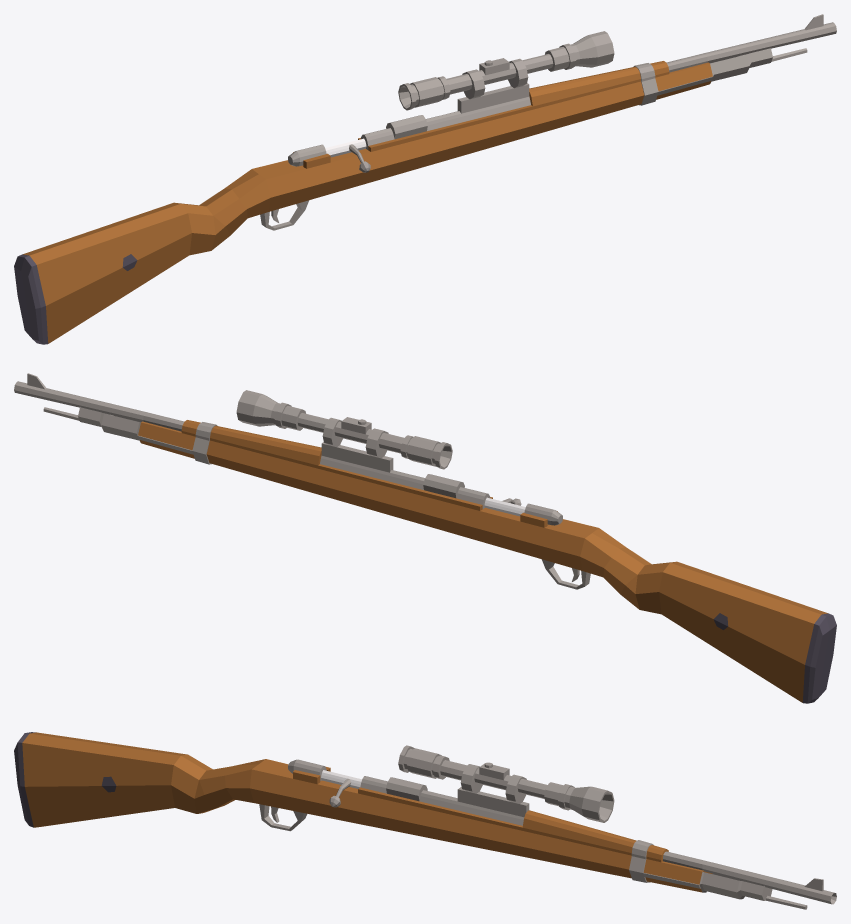
The model's file is Kar98.1.7.fbx.
3 renders of one model, top to bottom at view 1: azimuth 30°, elevation 25°; view 2: azimuth 150°, elevation 25°; view 3: azimuth 330°, elevation 25°, orthographic.
Parts seen in each view (by area): view 1: Cube; view 2: Cube; view 3: Cube.
Boxes of the visible parts, x1,y1,x2,y2 form: Cube: (14, 14, 836, 344); Cube: (14, 373, 836, 703); Cube: (14, 732, 836, 909).
Bounding box in the file's own units: 426 × 86.72 × 25.84.
